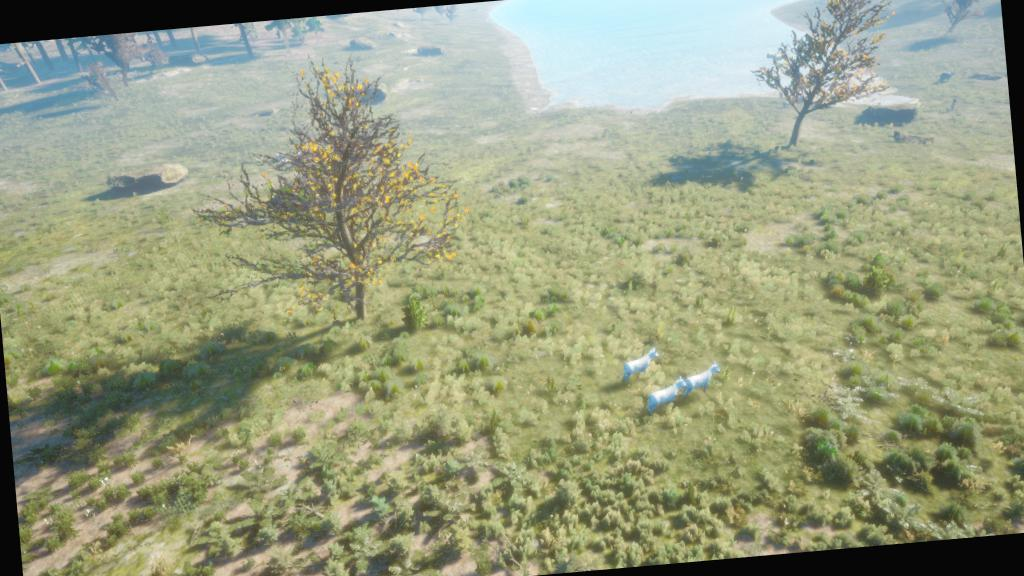human: (946, 98, 961, 110)
zebra: (638, 376, 690, 418), (616, 343, 660, 385), (683, 357, 723, 396)
